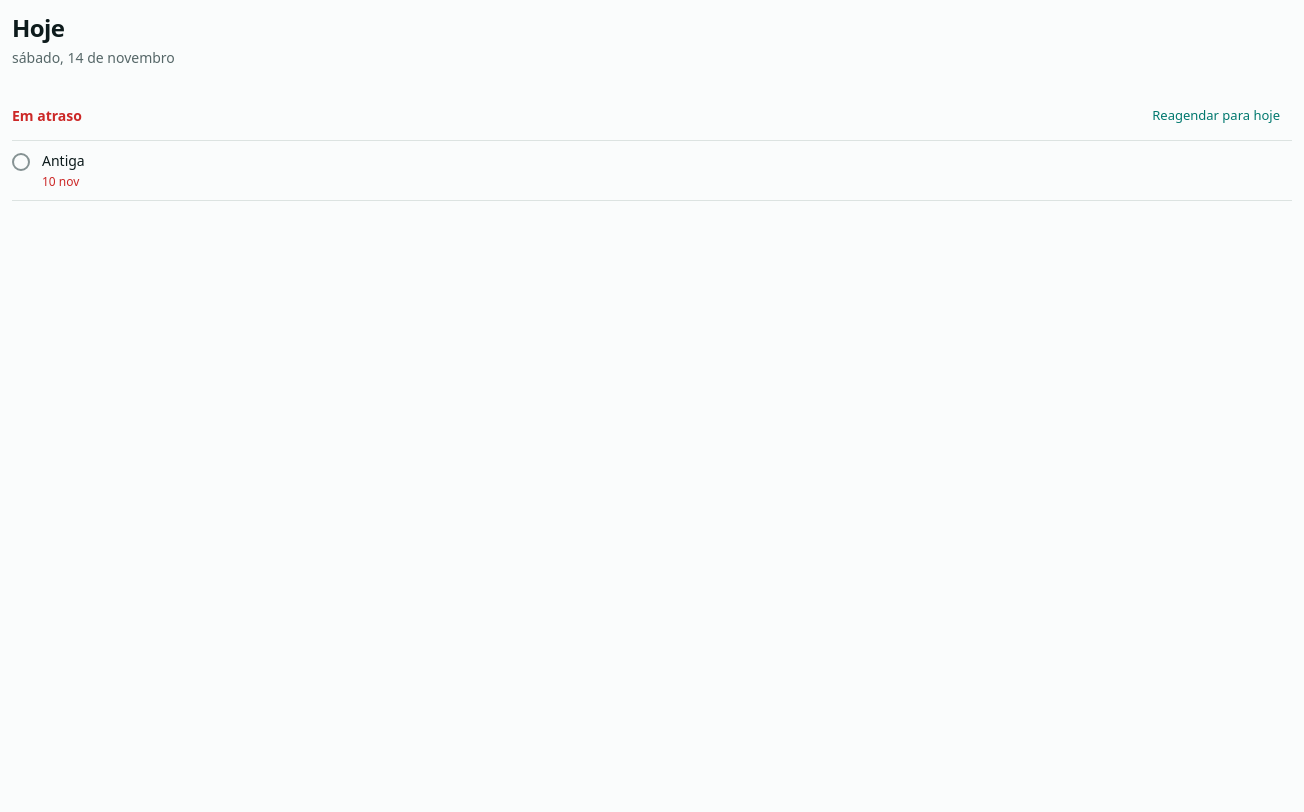
Test: TodayPage › se reagendar falhar, as tarefas voltam a "Em atraso"
The width and height of the screenshot is (1304, 812).
Step 1. Click the button "Reagendar para hoje" → [1216, 116], box [1140,100,1292,132]
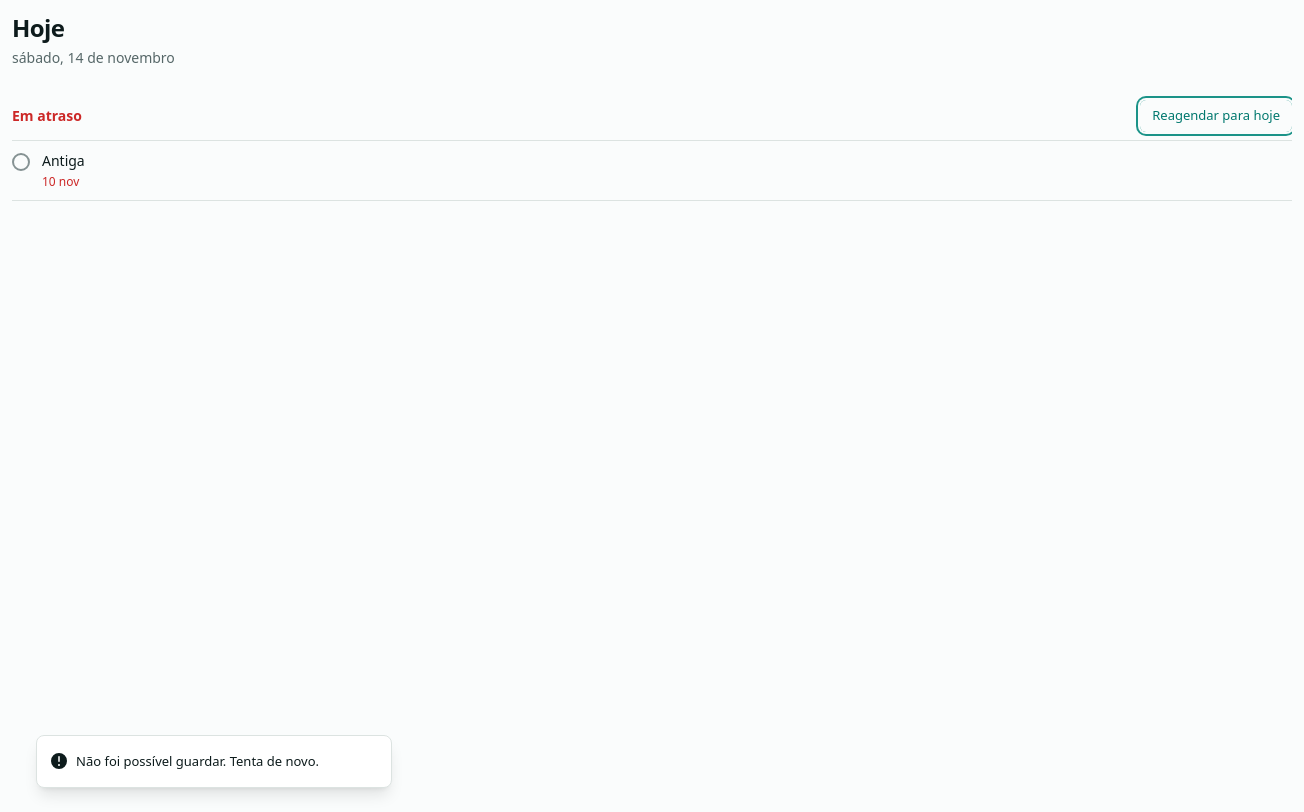
Check: the text "Antiga" is shown, box [42,151,85,170]
Check: the text "Não foi possível guardar. Tenta de novo." is shown, box [76,752,319,771]
